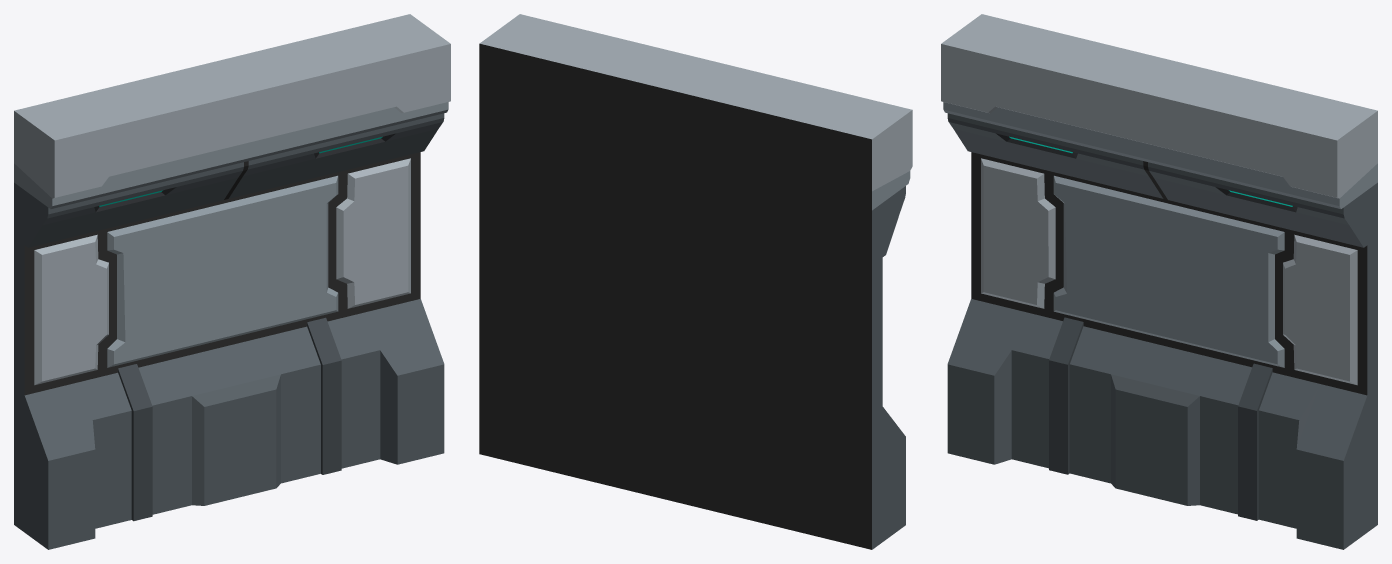
Rendered from SM_Bld_Wall_01_Alt.fbx.
3 renders of one model, left to right at view 1: azimuth 30°, elevation 25°; view 2: azimuth 150°, elevation 25°; view 3: azimuth 330°, elevation 25°, orthographic.
Parts seen in each view (by area): view 1: SM_Bld_Wall_01_Alt; view 2: SM_Bld_Wall_01_Alt; view 3: SM_Bld_Wall_01_Alt.
Boxes of the visible parts, <box> form: SM_Bld_Wall_01_Alt: <box>14,14,450,549</box>; SM_Bld_Wall_01_Alt: <box>479,14,912,549</box>; SM_Bld_Wall_01_Alt: <box>941,14,1377,549</box>.
Bounding box in the file's own units: 500 × 500 × 89.18.
Materials: 1 (1 with a texture image).
